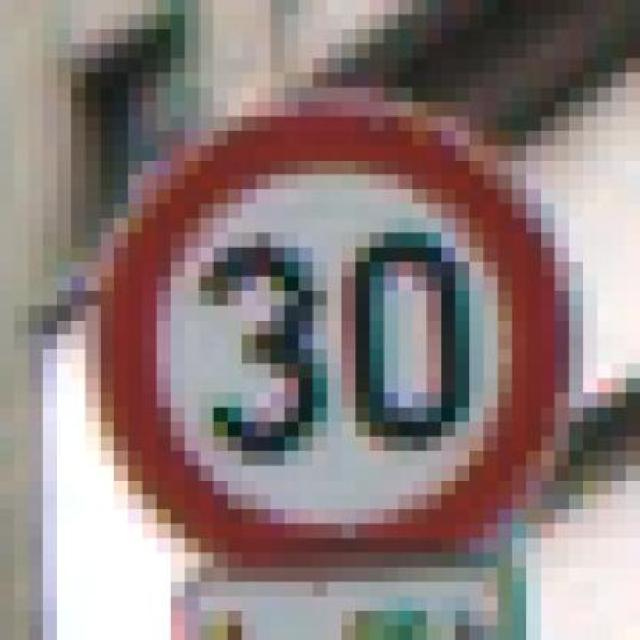Speed Limit 30 KMPh: (57, 73, 626, 582)
